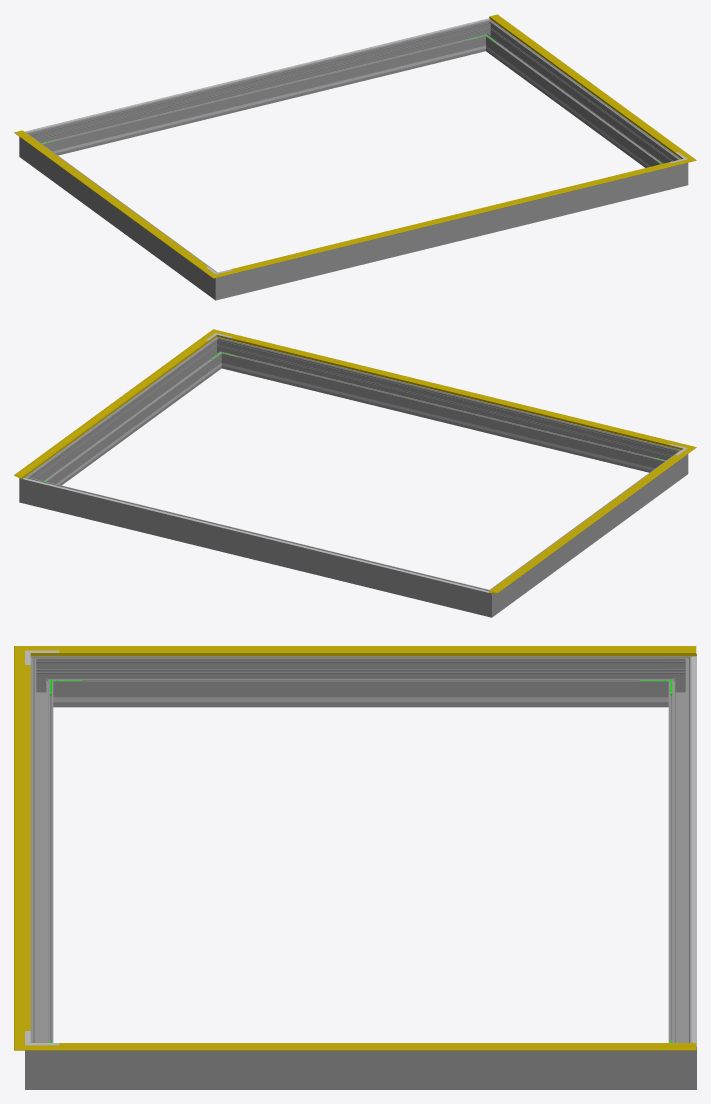
3 views of the same model, one above another, from view 1: azimuth 30°, elevation 25°; view 2: azimuth 150°, elevation 25°; view 3: azimuth 270°, elevation 25° (orthographic). The views are drawn at different scales.
Visible parts, largest first — view 1: 3DGeom-278, 3DGeom-300, 3DGeom-299, 3DGeom-270, 3DGeom-141, 3DGeom-145, 3DGeom-246, 3DGeom-147, 3DGeom-222, 3DGeom-158, 3DGeom-272, 3DGeom-152 (+3 smaller); view 2: 3DGeom-300, 3DGeom-278, 3DGeom-299, 3DGeom-270, 3DGeom-141, 3DGeom-145, 3DGeom-241, 3DGeom-147, 3DGeom-222, 3DGeom-158, 3DGeom-280, 3DGeom-152 (+3 smaller); view 3: 3DGeom-270, 3DGeom-299, 3DGeom-278, 3DGeom-300, 3DGeom-147, 3DGeom-141, 3DGeom-145, 3DGeom-234, 3DGeom-222, 3DGeom-158, 3DGeom-152, 3DGeom-154 (+4 smaller).
Part boxes in pixels (x1=…): 3DGeom-278: x1=38, y1=23, x2=482, y2=155; 3DGeom-300: x1=233, y1=167, x2=670, y2=296; 3DGeom-299: x1=487, y1=25, x2=675, y2=167; 3DGeom-270: x1=29, y1=139, x2=210, y2=292; 3DGeom-141: x1=228, y1=162, x2=679, y2=274; 3DGeom-145: x1=489, y1=14, x2=686, y2=156; 3DGeom-246: x1=58, y1=49, x2=469, y2=152; 3DGeom-147: x1=14, y1=131, x2=208, y2=270; 3DGeom-222: x1=25, y1=18, x2=490, y2=132; 3DGeom-158: x1=231, y1=162, x2=670, y2=269; 3DGeom-272: x1=205, y1=268, x2=232, y2=300; 3DGeom-152: x1=489, y1=16, x2=677, y2=152; 3DGeom-300: x1=224, y1=340, x2=669, y2=472; 3DGeom-278: x1=36, y1=480, x2=477, y2=613; 3DGeom-299: x1=32, y1=342, x2=219, y2=485; 3DGeom-270: x1=496, y1=456, x2=678, y2=609; 3DGeom-141: x1=225, y1=333, x2=678, y2=448; 3DGeom-145: x1=14, y1=336, x2=211, y2=478; 3DGeom-241: x1=238, y1=367, x2=648, y2=469; 3DGeom-147: x1=489, y1=453, x2=686, y2=593; 3DGeom-222: x1=23, y1=478, x2=489, y2=592; 3DGeom-158: x1=231, y1=337, x2=670, y2=444; 3DGeom-280: x1=474, y1=585, x2=501, y2=617; 3DGeom-152: x1=20, y1=340, x2=207, y2=477; 3DGeom-270: x1=59, y1=656, x2=662, y2=707; 3DGeom-299: x1=59, y1=1050, x2=662, y2=1089; 3DGeom-278: x1=668, y1=668, x2=691, y2=1042; 3DGeom-300: x1=30, y1=668, x2=53, y2=1042; 3DGeom-147: x1=48, y1=646, x2=696, y2=656; 3DGeom-141: x1=14, y1=660, x2=24, y2=1035; 3DGeom-145: x1=48, y1=1045, x2=696, y2=1050; 3DGeom-234: x1=86, y1=697, x2=635, y2=702; 3DGeom-222: x1=691, y1=656, x2=696, y2=1046; 3DGeom-158: x1=25, y1=665, x2=30, y2=1030; 3DGeom-152: x1=59, y1=1043, x2=696, y2=1045; 3DGeom-154: x1=59, y1=650, x2=696, y2=652.
Bounding box in the file's own units: 4.27 × 0.2195 × 3.05.
